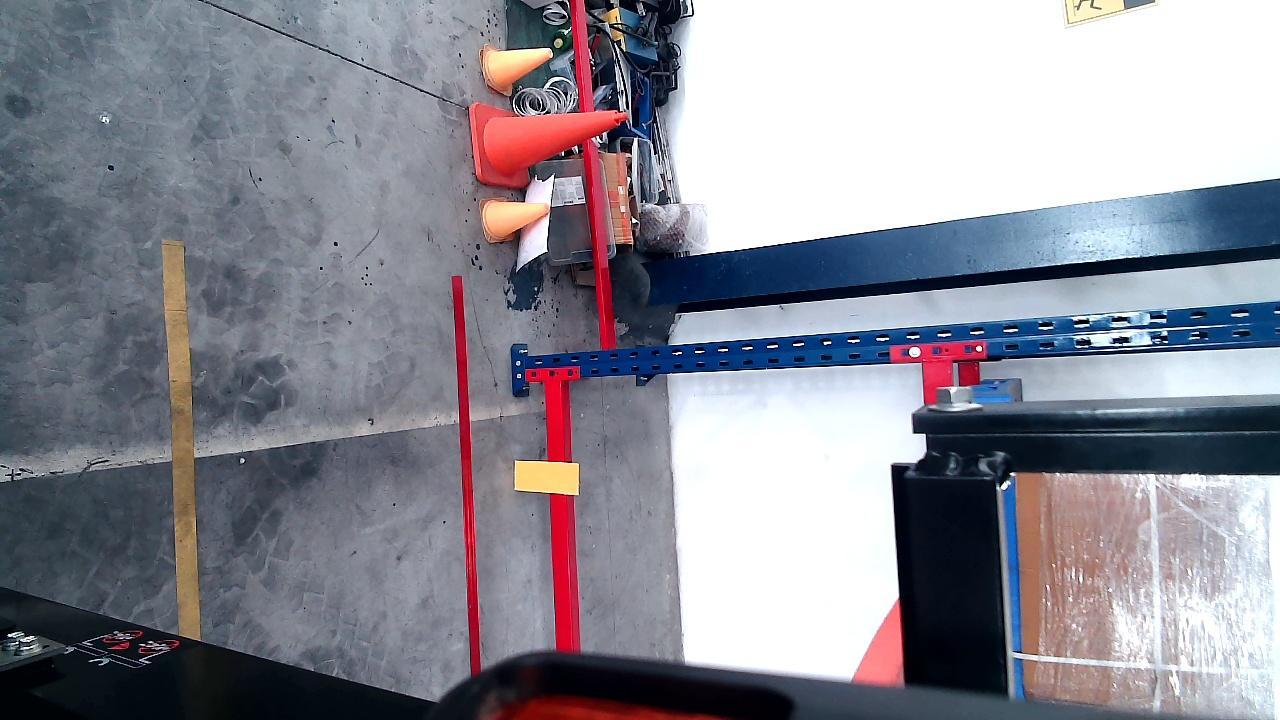red_line: (452, 272, 482, 674)
yellow_line: (168, 233, 200, 642)
